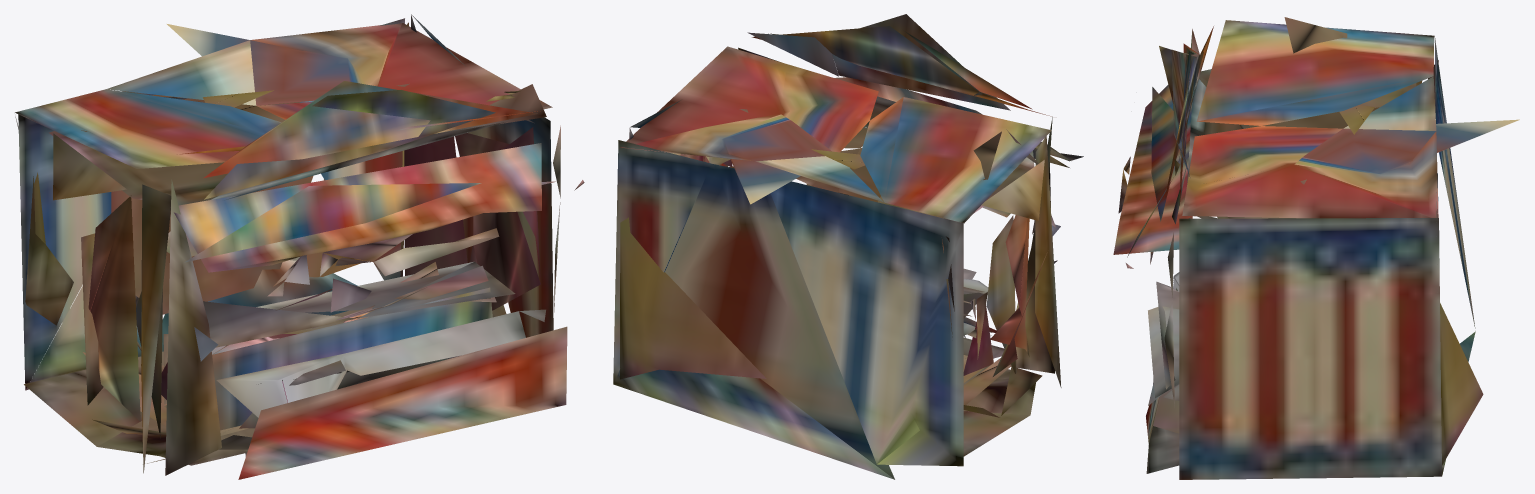
File: jahrmarkt_losbude_lo.glb
3 views of the same model, side by side, from view 1: azimuth 30°, elevation 25°; view 2: azimuth 150°, elevation 25°; view 3: azimuth 270°, elevation 25° (orthographic). The views are drawn at different scales.
Visible parts, largest first — view 1: Prop; view 2: Prop; view 3: Prop.
Boxes of the visible parts, bbox=[...] form: Prop: bbox=[15, 14, 584, 479]; Prop: bbox=[613, 14, 1083, 479]; Prop: bbox=[1113, 17, 1519, 479].
Size of the model in its own units: 1.26 by 1.11 by 1.1.
1 material, 1 textured.
